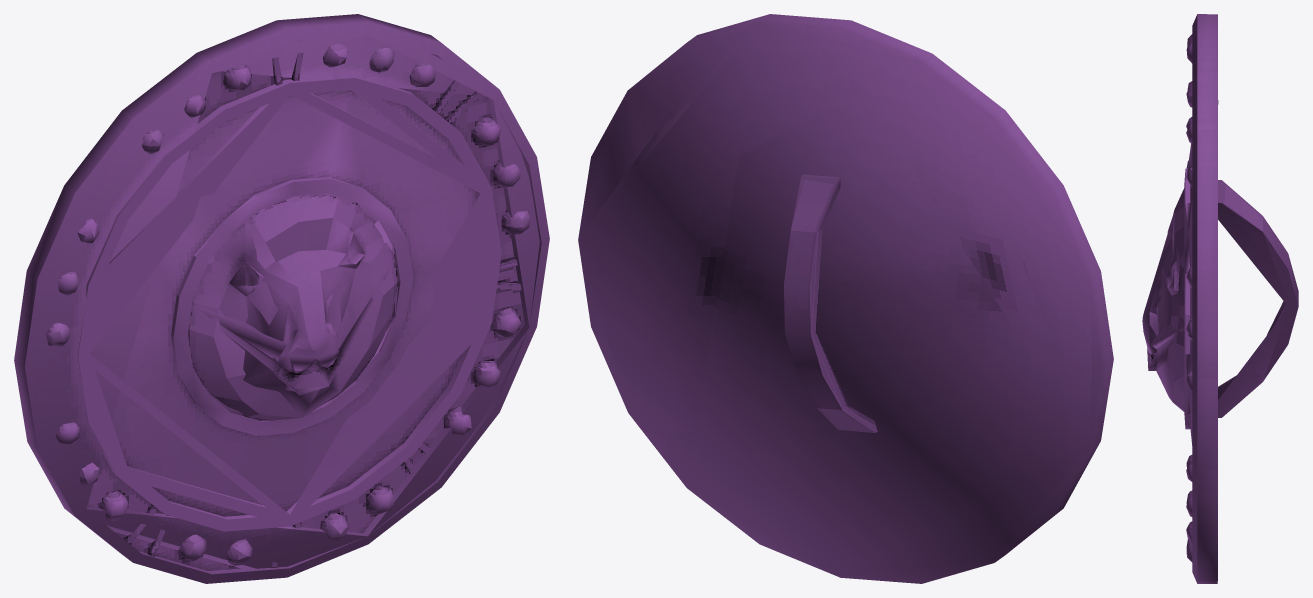
File: item_shield_galaxy.glb
3 renders of one model, left to right at view 1: azimuth 30°, elevation 25°; view 2: azimuth 150°, elevation 25°; view 3: azimuth 270°, elevation 25°, orthographic. The views are drawn at different scales.
Visible parts, largest first — view 1: Shield; view 2: Shield; view 3: Shield.
Boxes of the visible parts, x1,y1,x2,y2 form: Shield: (14,14,549,583); Shield: (578,14,1113,583); Shield: (1142,14,1298,583).
Size of the model in its own units: 0.6187 by 0.6187 by 0.1682.
1 material, 1 textured.
